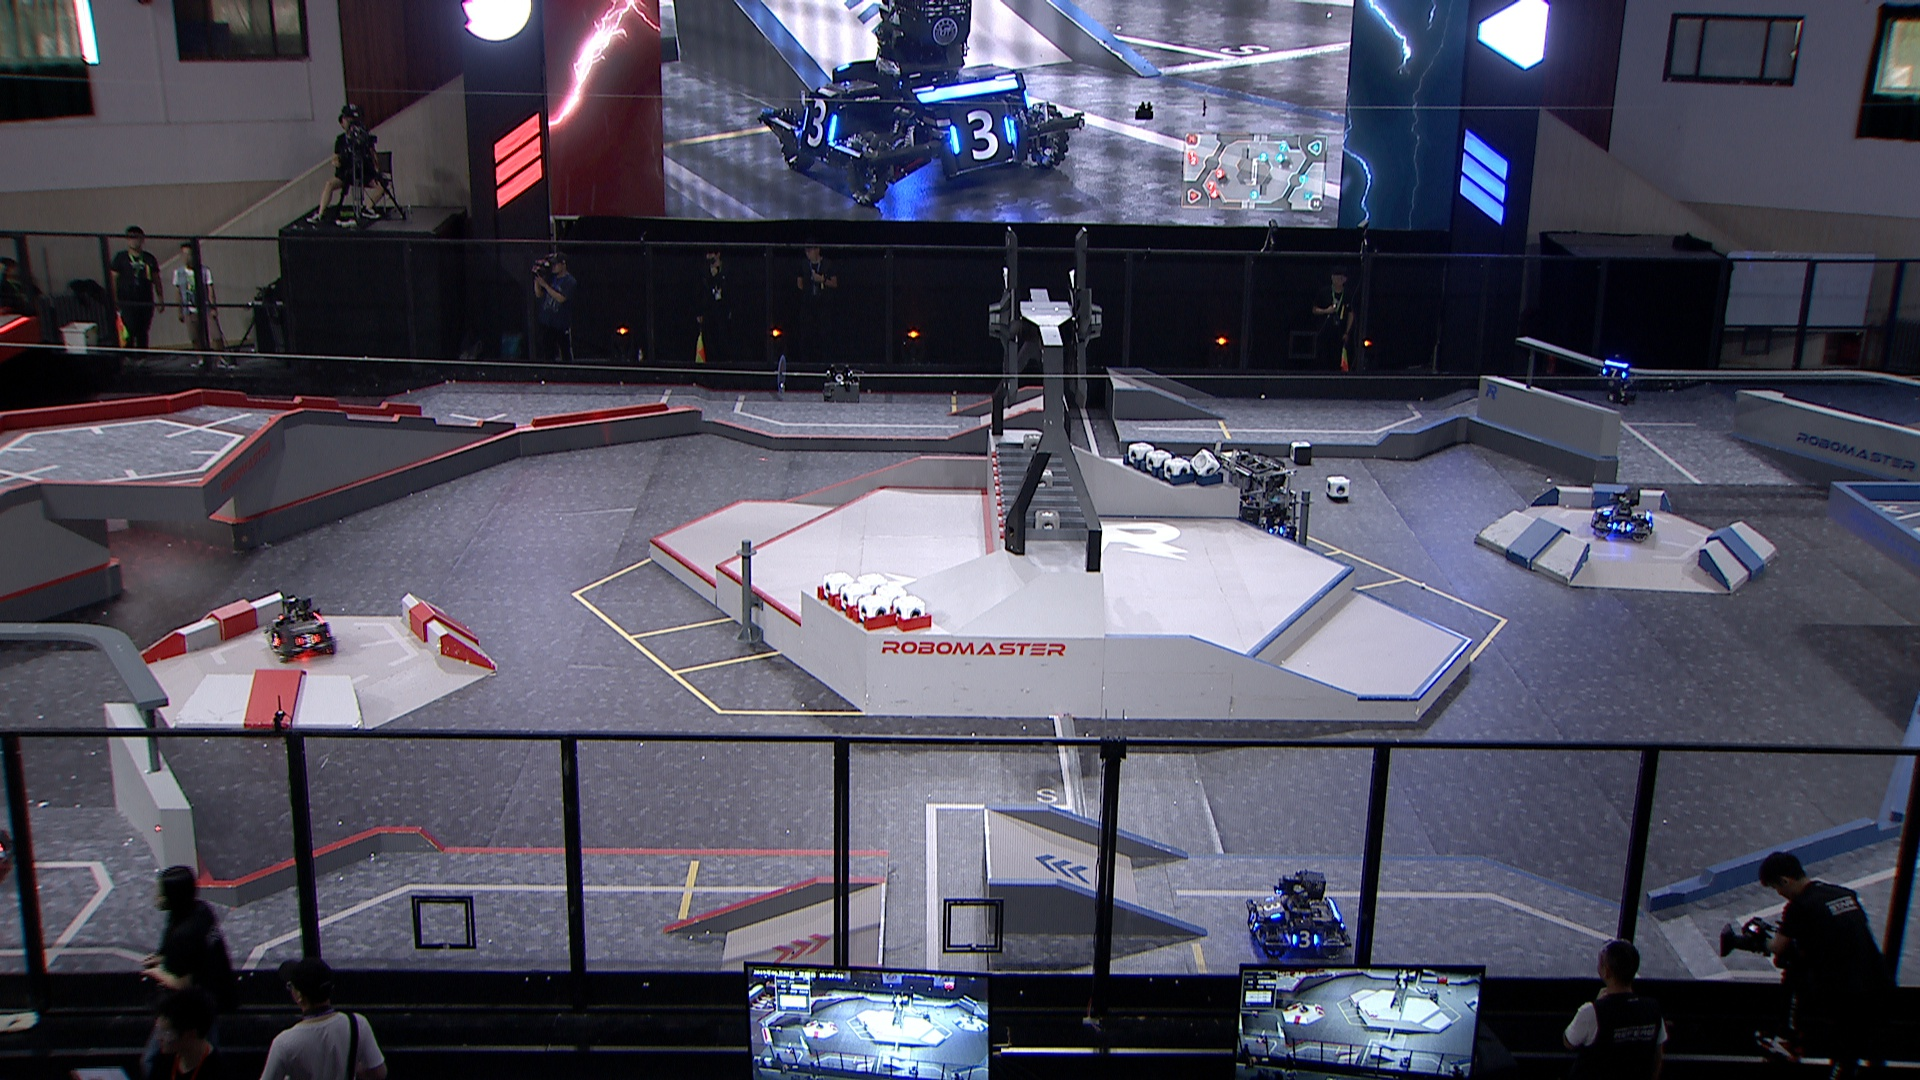armor: (1288, 928, 1319, 949), (1259, 897, 1282, 920), (295, 632, 319, 647), (1600, 367, 1627, 380), (1609, 520, 1633, 533), (1247, 910, 1261, 932), (1269, 524, 1286, 538), (266, 632, 280, 647)
car: (1245, 868, 1352, 959), (1209, 451, 1299, 543), (261, 591, 335, 662), (1590, 485, 1654, 546)
watcher: (1598, 353, 1640, 405)
